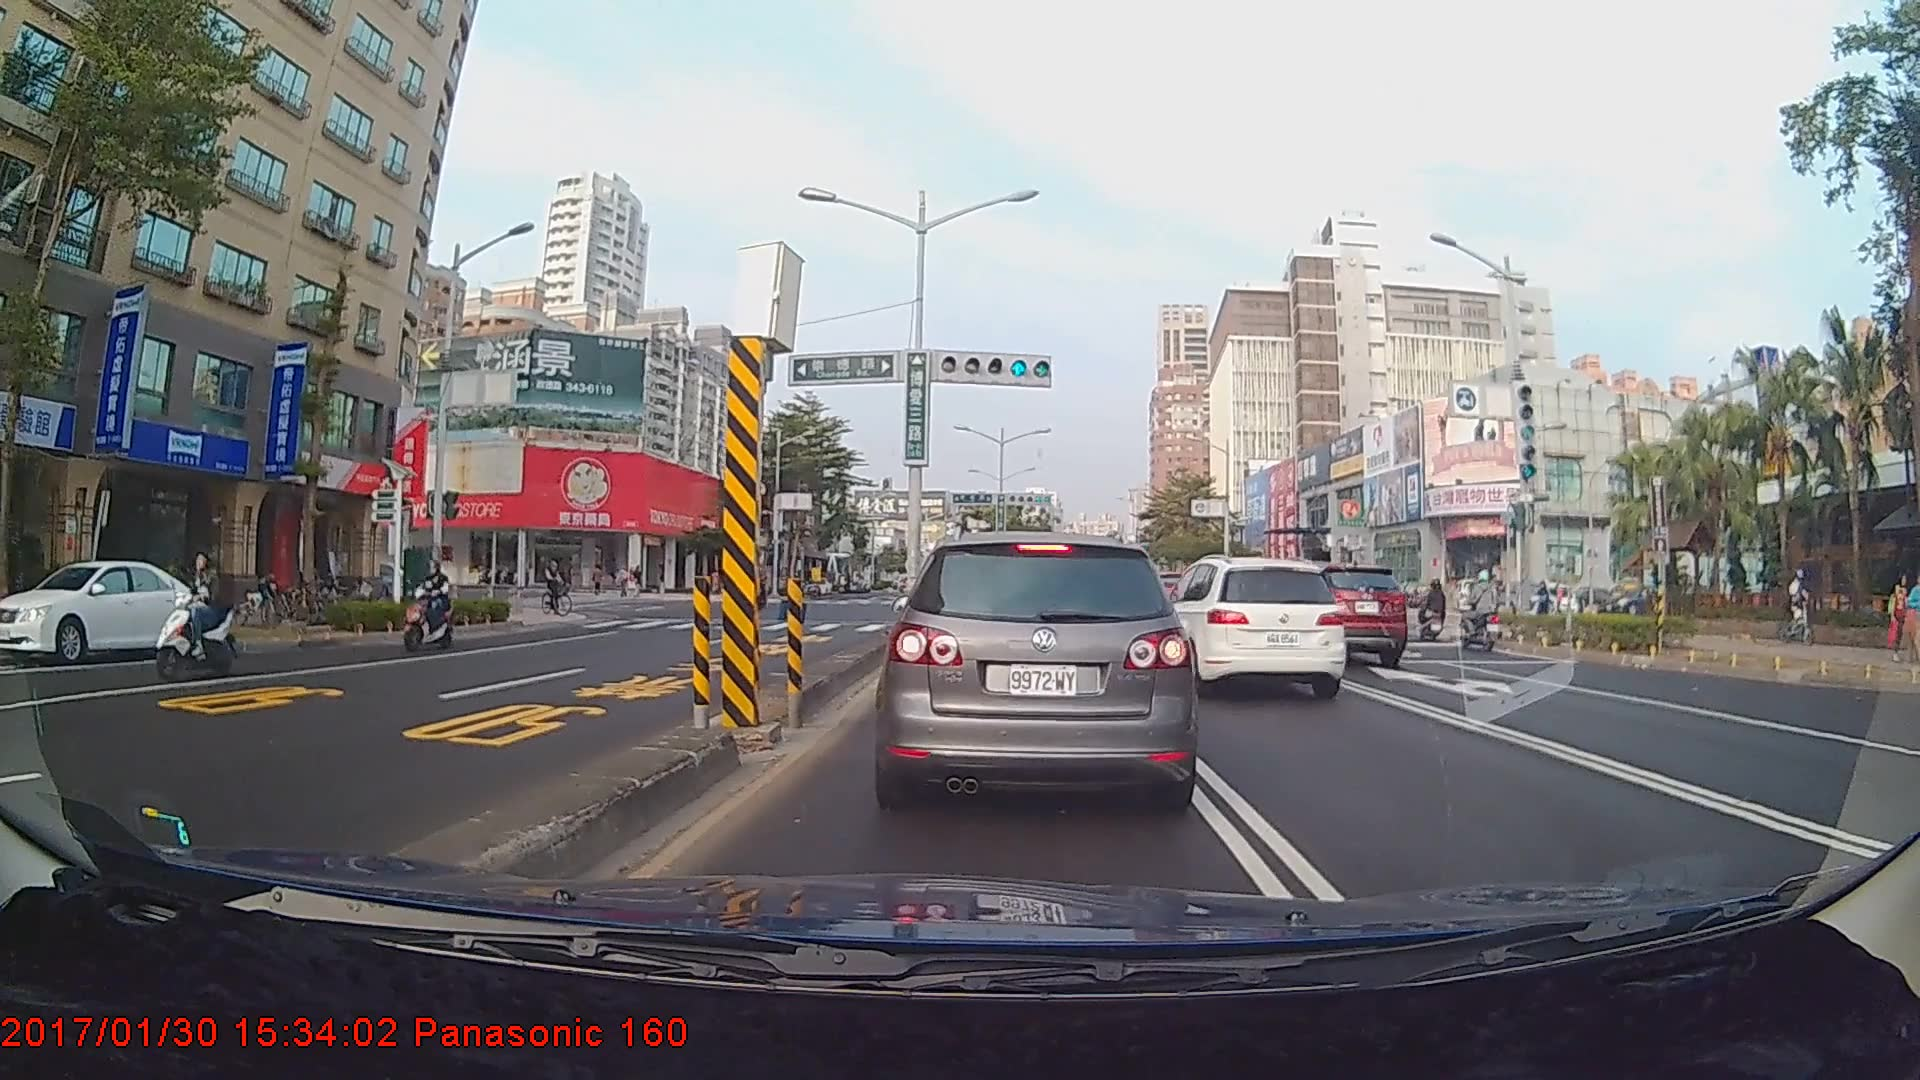pedestrian: (1884, 573, 1913, 664)
rider: (155, 551, 245, 679), (399, 558, 459, 655), (1453, 567, 1509, 653), (1776, 563, 1820, 649), (1417, 574, 1451, 646), (544, 559, 582, 616)
vehicle: (881, 528, 1195, 812), (1150, 553, 1345, 701), (0, 559, 209, 665), (1271, 562, 1408, 667)
